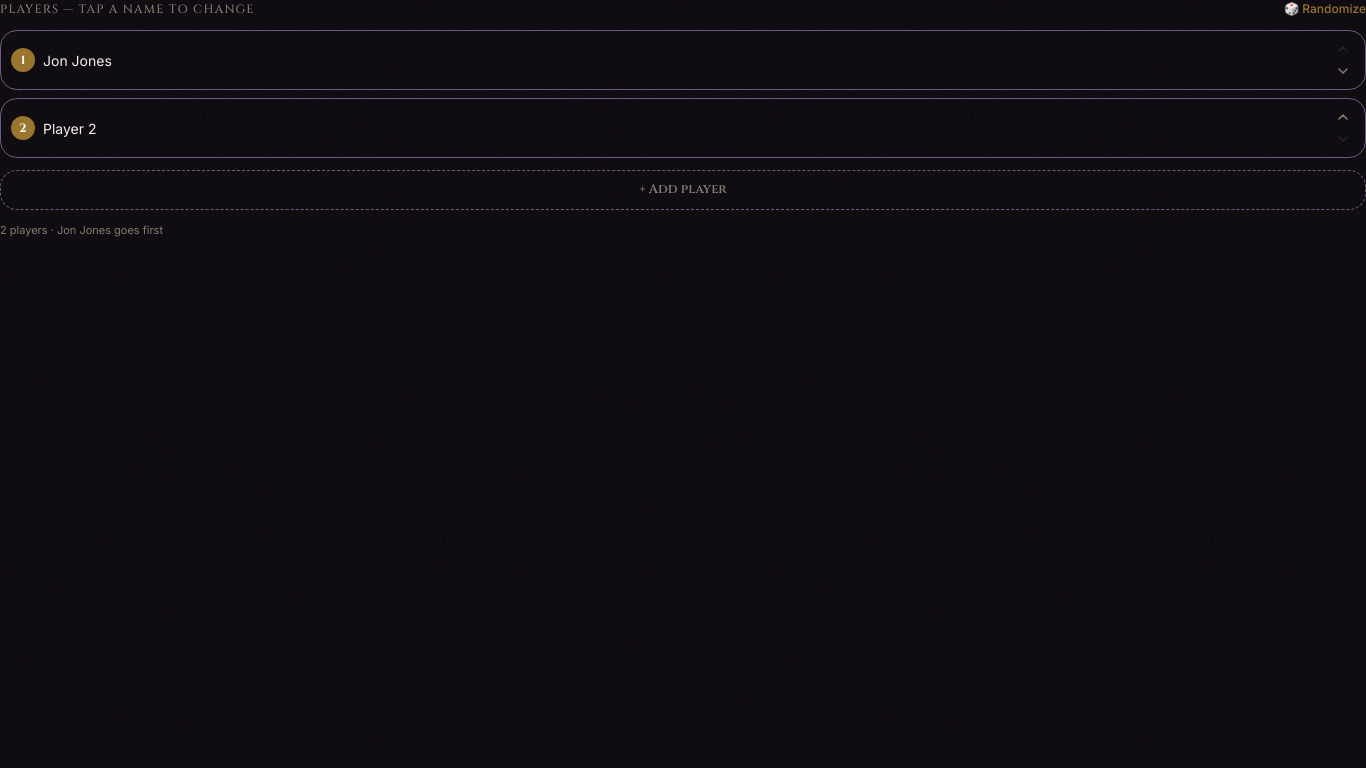
Test: PlayerRoster › points at the friends page when there is nobody to pick
Click the button "Player 2" at coordinates (70, 128), box [43,118,1323,138]
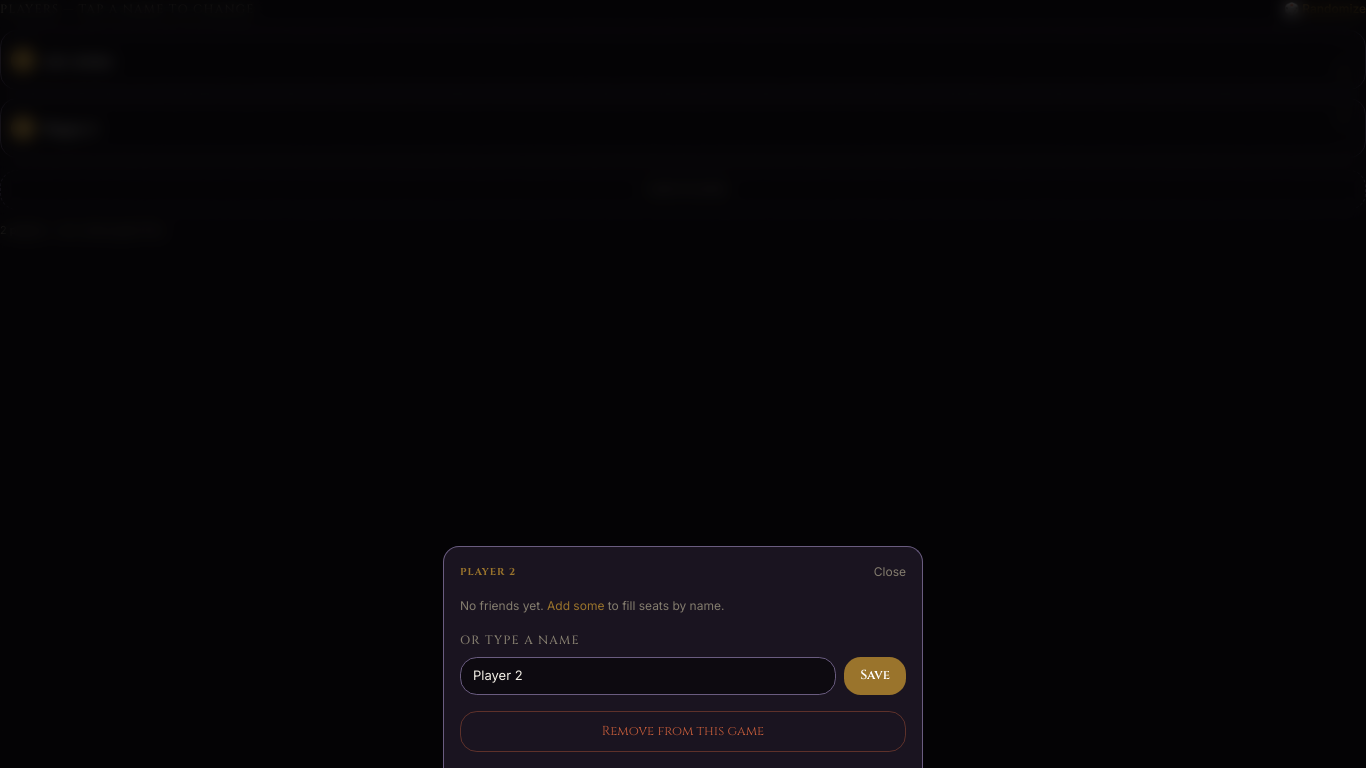
Check: the link "Add some" is shown, box [547,598,604,613]
